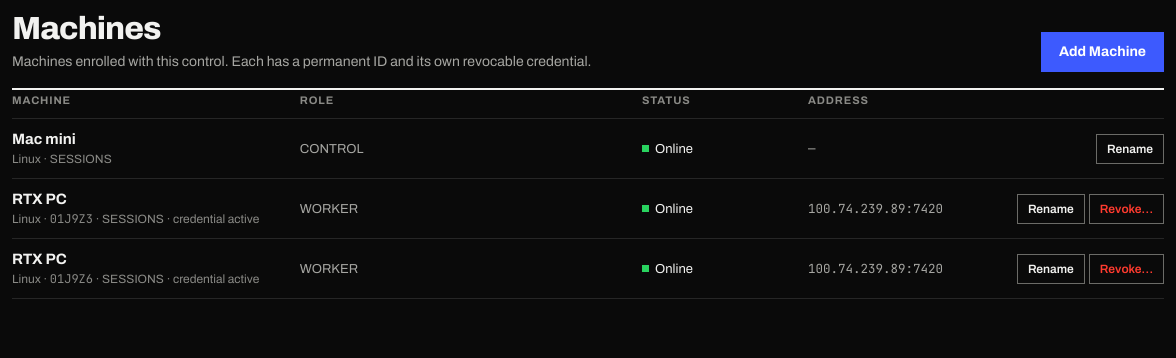
Test case: MachinesTab (control registry) › renaming allows duplicate names and shows validation errors
Click the button "Rename" in the row of "01J9Z3".
click(1051, 208)  # box [1017, 194, 1085, 224]
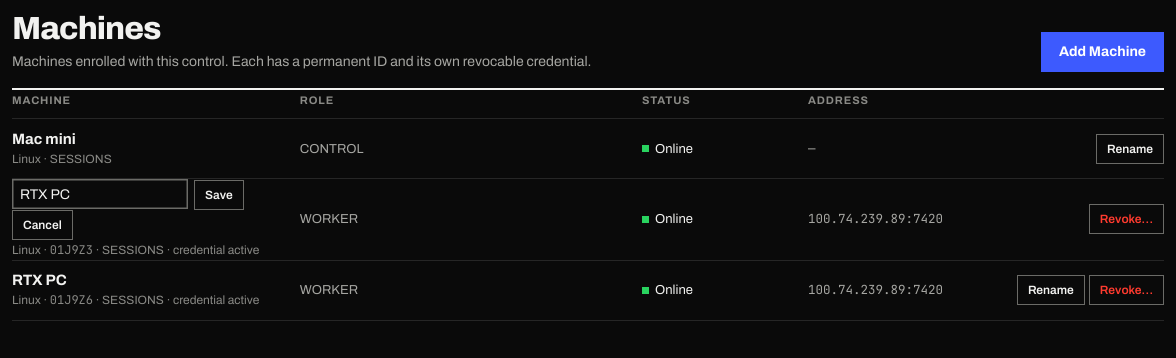
Replace the text in the field named "Display name" with "Mac mini" at (100, 194), box [12, 179, 188, 209]
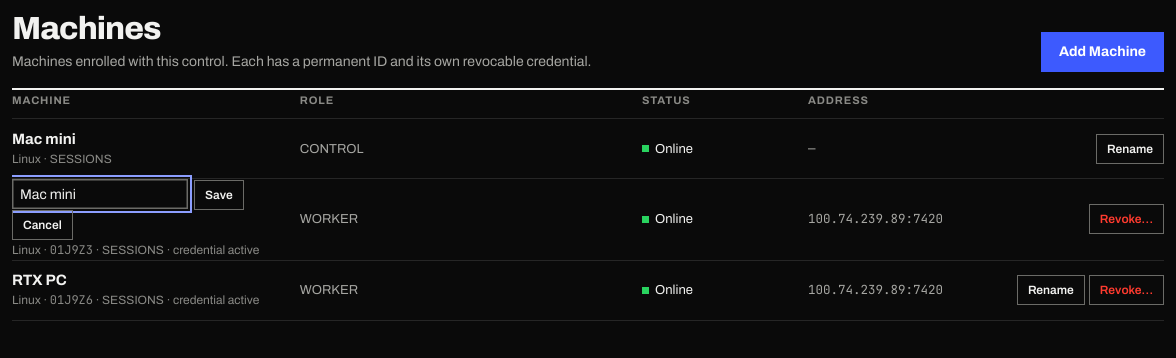
Click the button "Save".
click(219, 194)  # box [194, 180, 244, 210]
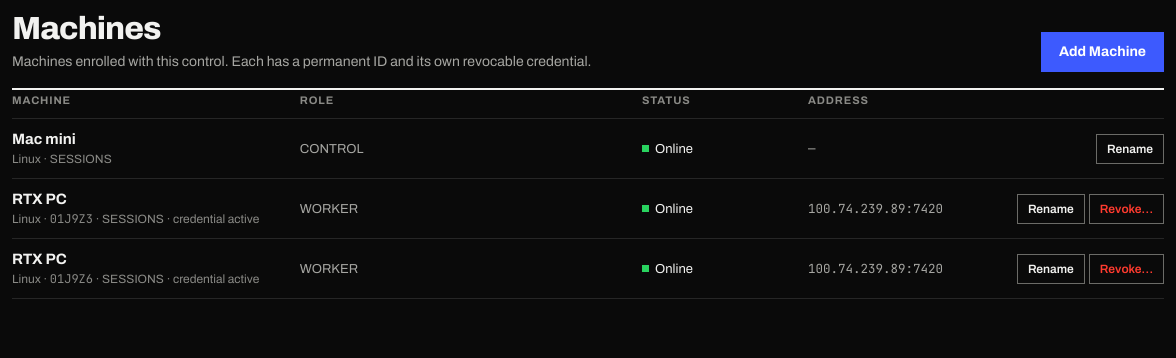
Click the button "Rename" in the row of "01J9Z6".
click(1051, 268)  # box [1017, 254, 1085, 284]
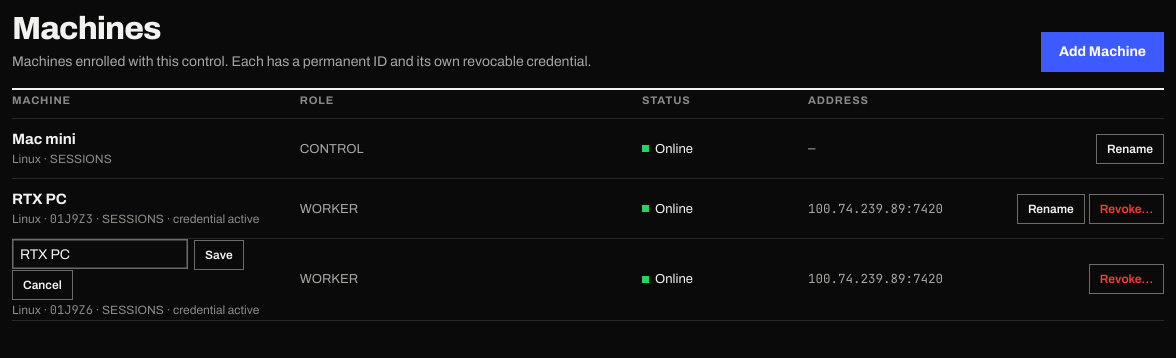
Clear the field named "Display name" at (100, 254), box [12, 239, 188, 269]
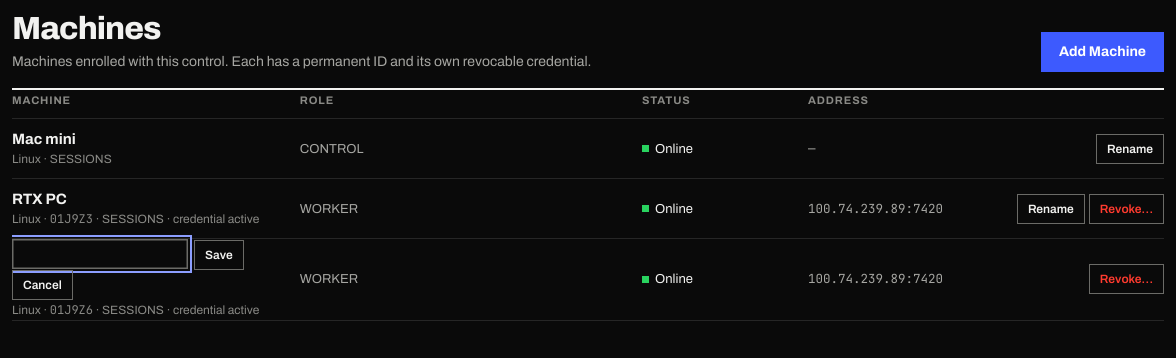
Click the button "Save".
click(219, 254)  # box [194, 240, 244, 270]
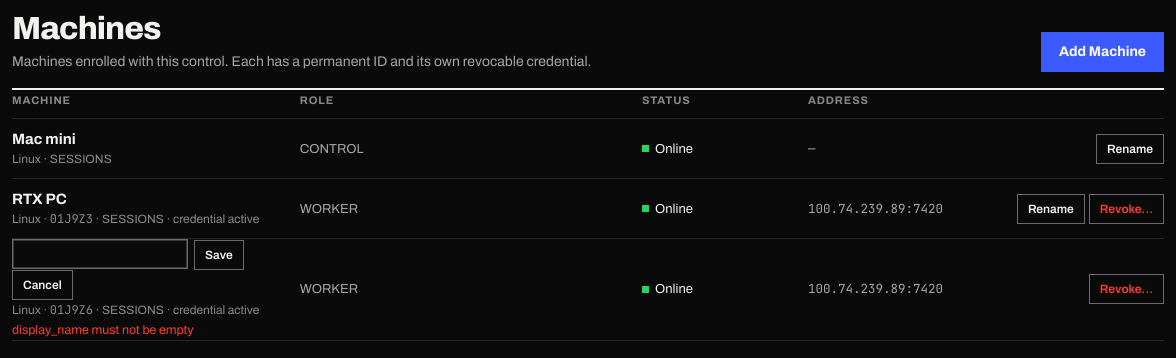
Now the message shows "must not be empty", box [12, 322, 194, 336]
